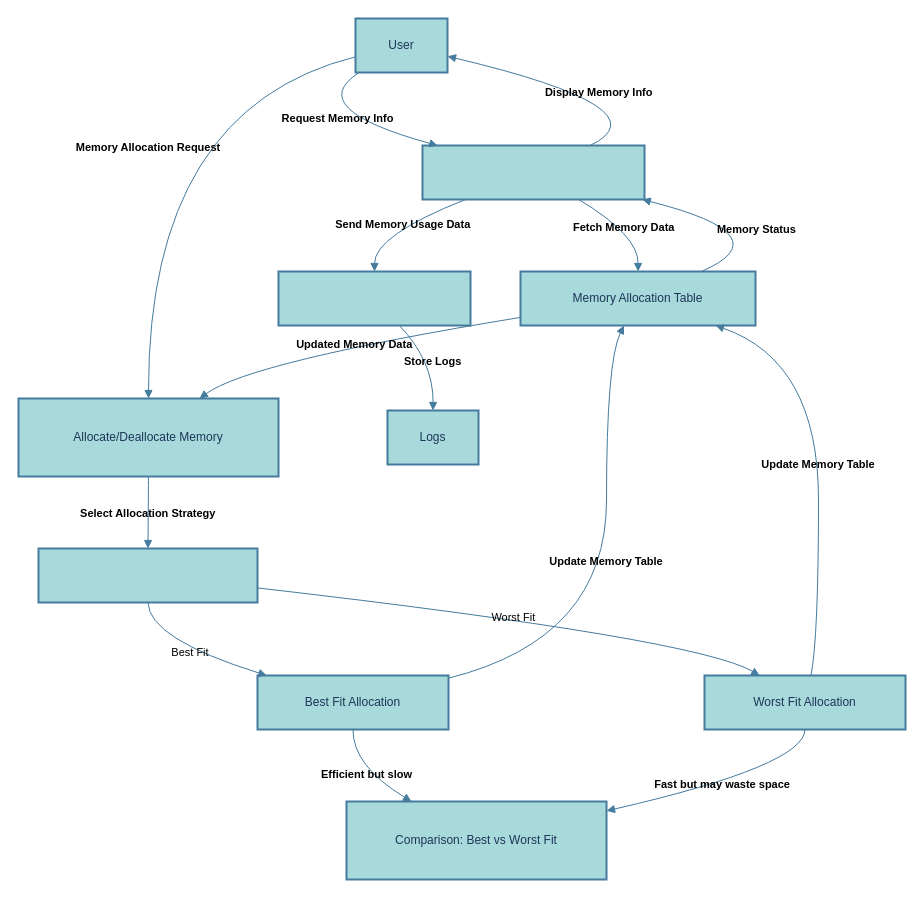
This 923x897 diagram has some shape labels left out. The shapes that lost their labels are listed below. From the top down, each one's box as (x1, y1, x2, y2) in pixels, then its label:
(421, 144, 645, 200): Monitor Memory Usage
(277, 270, 471, 326): Log Memory Usage
(37, 547, 258, 603): Choose Best/Worst Fit
